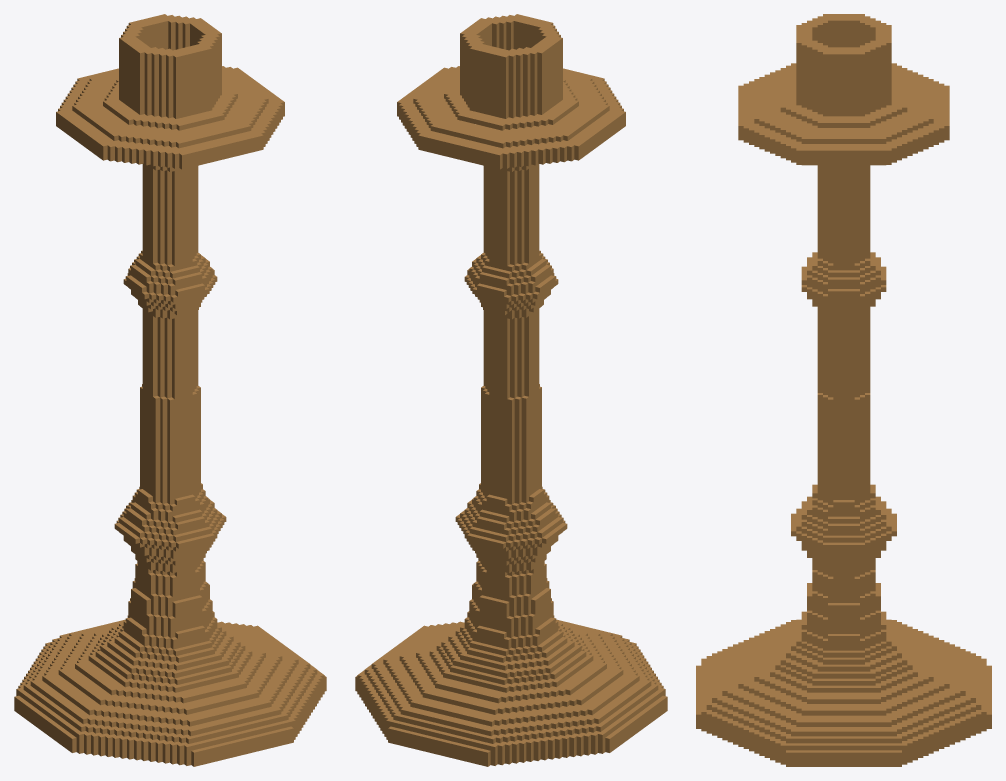
The model's file is candlestick.glb.
3 renders of one model, left to right at view 1: azimuth 30°, elevation 25°; view 2: azimuth 150°, elevation 25°; view 3: azimuth 270°, elevation 25°, orthographic.
Parts seen in each view (by area): view 1: candlestick:compound; view 2: candlestick:compound; view 3: candlestick:compound.
Part boxes in pixels (x1=…): candlestick:compound: x1=14, y1=14, x2=326, y2=766; candlestick:compound: x1=355, y1=14, x2=667, y2=766; candlestick:compound: x1=696, y1=14, x2=991, y2=766.
Size of the model in its own units: 0.112 by 0.28 by 0.112.
